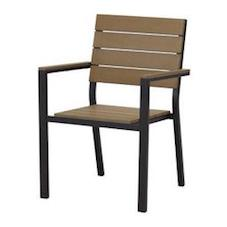chair: (13, 7, 212, 222)
